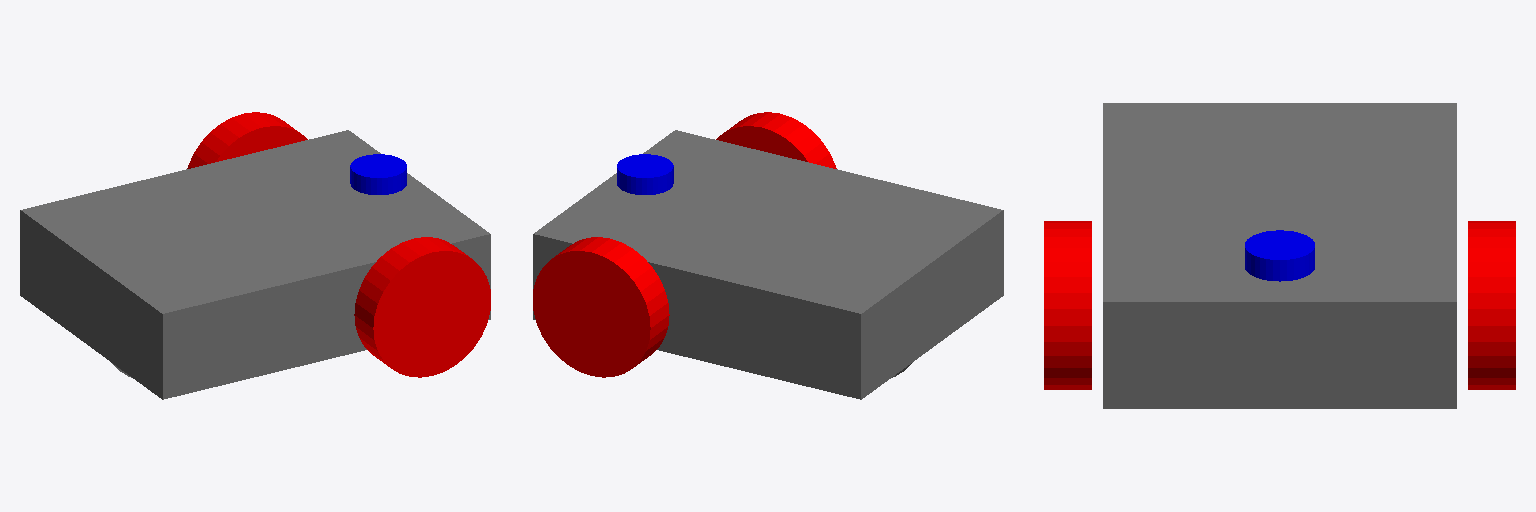
robot.urdf — dtw_robot:
<?xml version="1.0"?>
<robot name="dtw_robot">
  <material name="gray">
    <color rgba="0.5 0.5 0.5 1.0"/>
  </material>
  <material name="red">
    <color rgba="1.0 0.0 0.0 1.0"/>
  </material>
  <material name="blue">
    <color rgba="0.0 0.0 1.0 1.0"/>
  </material>

  <link name="base_link"/>

  <joint name="body_joint" type="fixed">
    <origin xyz="0 0 0.1" rpy="0 0 0" />
    <parent link="base_link"/>
    <child  link="body_link"/>
  </joint>
  <link name="body_link">
    <visual>
      <origin xyz="-0.1 0 0" rpy="0 0 0" />
      <geometry>
        <box size="0.4 0.3 0.1" />
      </geometry>
      <material name="gray" />
    </visual>
  </link>

  <joint name="back_ball_joint" type="fixed">
    <origin xyz="-0.23 0 -0.05" rpy="0 0 0" />
    <parent link="body_link"/>
    <child  link="back_ball_link"/>
  </joint>
  <link name="back_ball_link">
    <visual>
      <geometry>
        <sphere radius="0.05" />
      </geometry>
      <material name="gray" />
    </visual>
  </link>

  <joint name="left_wheel_joint" type="fixed">
    <origin xyz="0 0.18 0" rpy="-1.5707 0 0" />
    <parent link="body_link"/>
    <child  link="left_wheel_link"/>
  </joint>
  <link name="left_wheel_link">
    <visual>
      <geometry>
        <cylinder length="0.04" radius="0.072" />
      </geometry>
      <material name="red" />
    </visual>
  </link>

  <joint name="right_wheel_joint" type="fixed">
    <origin xyz="0 -0.18 0" rpy="-1.5707 0 0" />
    <parent link="body_link"/>
    <child  link="right_wheel_link"/>
  </joint>
  <link name="right_wheel_link">
    <visual>
      <geometry>
        <cylinder length="0.04" radius="0.072" />
      </geometry>
      <material name="red" />
    </visual>
  </link>

  <joint name="front_laser_joint" type="fixed">
    <origin xyz="0.05 0 0.07" rpy="0 0 0" />
    <parent link="body_link"/>
    <child  link="front_laser_link"/>
  </joint>
  <link name="front_laser_link">
    <visual>
      <geometry>
        <cylinder length="0.02" radius="0.03" />
      </geometry>
      <material name="blue" />
    </visual>
  </link>

  <joint name="head_camera_joint" type="fixed">
    <origin xyz="0 0 0.15" rpy="-1.5707 0 -1.5707" />
    <parent link="body_link"/>
    <child  link="head_camera_link"/>
  </joint>
  <link name="head_camera_link" />

  <joint name="depth_camera_joint" type="fixed">
    <origin xyz="0 0 0.15" rpy="-1.5707 0 -1.5707" />
    <parent link="body_link"/>
    <child  link="depth_camera_link"/>
  </joint>
  <link name="depth_camera_link" />

  <joint name="main_imu_joint" type="fixed">
    <origin xyz="-0.10 0 0.15" rpy="0 0 0" />
    <parent link="body_link"/>
    <child  link="main_imu_link"/>
  </joint>
  <link name="main_imu_link"/>

  <joint name="left_back_sonar_joint" type="fixed">
    <origin xyz="-0.27 0.17 0" rpy="0 0 2.97" />
    <parent link="body_link"/>
    <child  link="left_back_sonar_link"/>
  </joint>
  <link name="left_back_sonar_link" />

  <joint name="right_back_sonar_joint" type="fixed">
    <origin xyz="-0.27 -0.17 0" rpy="0 0 -2.97" />
    <parent link="body_link"/>
    <child  link="right_back_sonar_link"/>
  </joint>
  <link name="right_back_sonar_link" />

</robot>

--- Render facts (derived) ---
Views: 3 orthographic renders of the robot side by side, from view 1: azimuth 30°, elevation 25°; view 2: azimuth 150°, elevation 25°; view 3: azimuth 270°, elevation 25°.
Robot: dtw_robot — 11 links, 10 joints (10 fixed); root link base_link; default pose: every joint at zero.
Visible links, largest first — view 1: body_link, right_wheel_link, left_wheel_link, front_laser_link; view 2: body_link, left_wheel_link, right_wheel_link, front_laser_link; view 3: body_link, left_wheel_link, right_wheel_link, front_laser_link.
Boxes of the visible links, x1,y1,x2,y2 form: body_link: (20,130,490,399); right_wheel_link: (354,237,490,377); left_wheel_link: (187,112,307,168); front_laser_link: (350,154,406,194); body_link: (533,130,1003,399); left_wheel_link: (533,237,669,377); right_wheel_link: (716,112,836,168); front_laser_link: (617,154,673,194); body_link: (1103,103,1456,408); left_wheel_link: (1468,221,1515,389); right_wheel_link: (1044,221,1091,389); front_laser_link: (1245,230,1314,281).
Bounding box of the posed robot: 0.4 × 0.4 × 0.18 m (x, y, z).
Geometry: primitives only (box / cylinder / sphere), no mesh files.